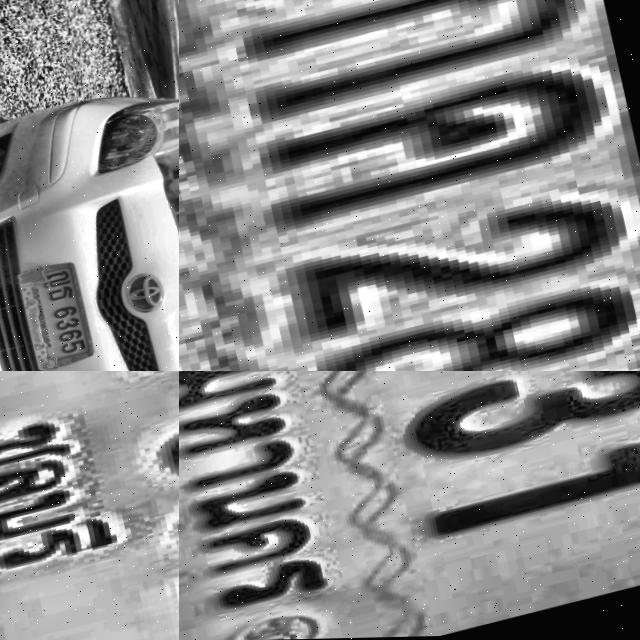license-plate: (179, 0, 640, 371), (179, 371, 640, 640), (0, 371, 179, 640), (10, 254, 101, 371)
